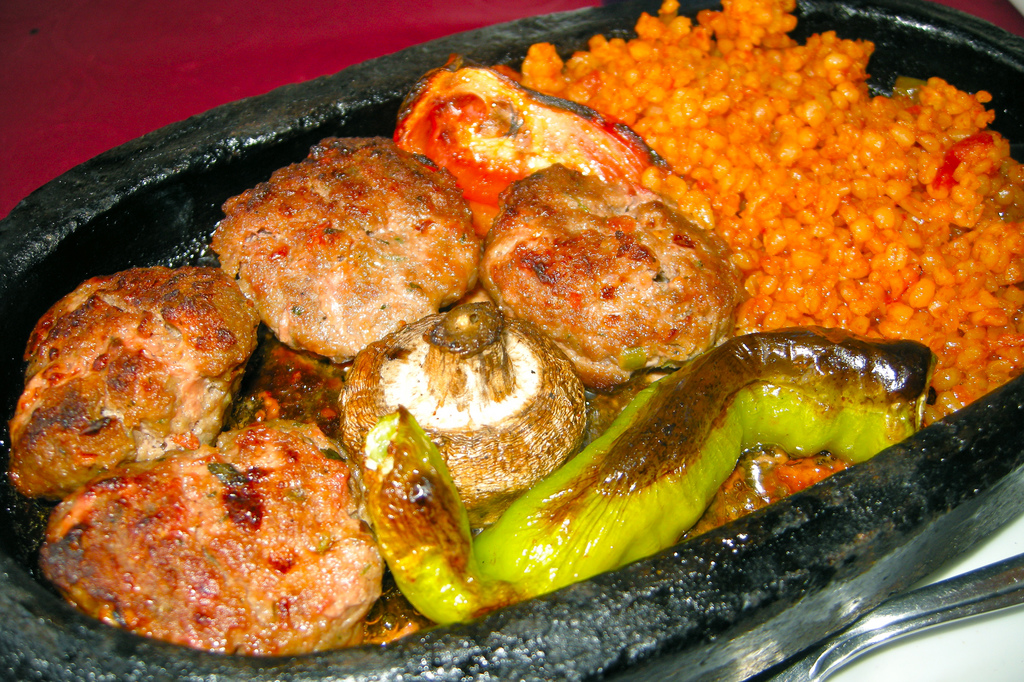meatballs: (70, 415, 401, 636), (232, 159, 488, 333), (504, 171, 714, 359), (34, 282, 250, 443)
